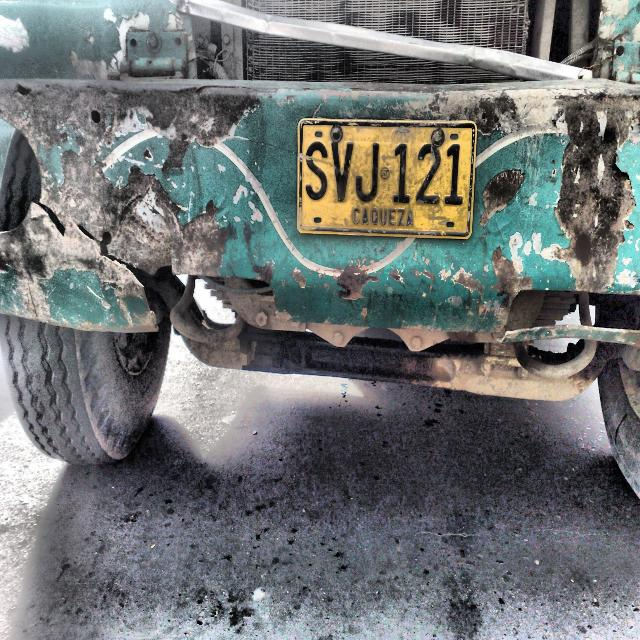plate: (297, 119, 477, 239)
